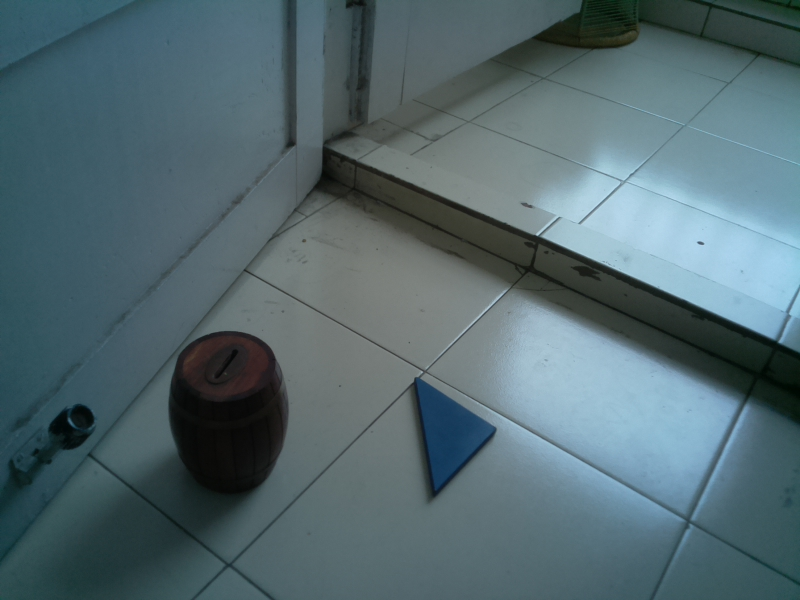Triangle: (405, 367, 500, 507)
